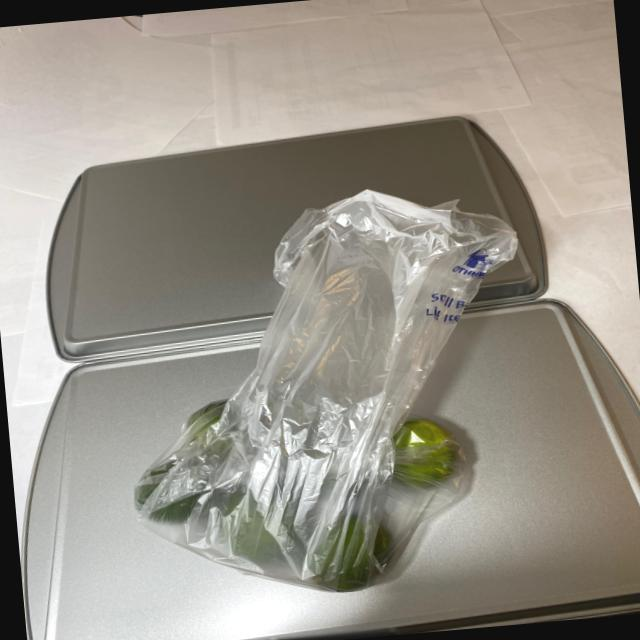lemon: (122, 376, 476, 602)
